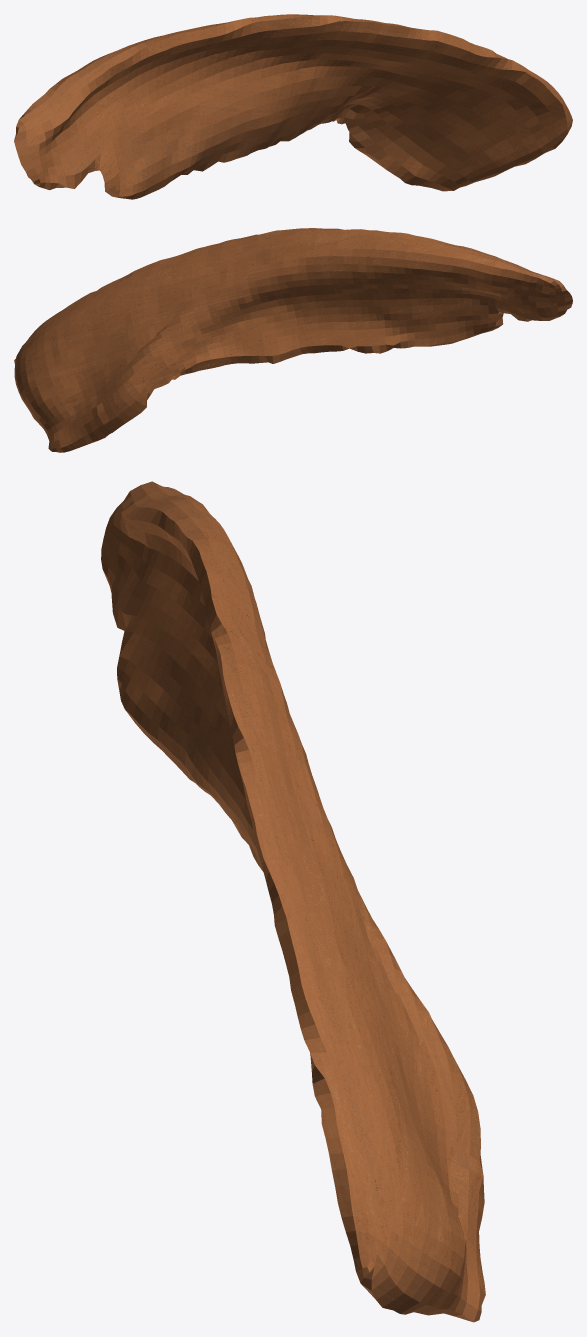
The model's file is mapleseed_final 1.fbx.
3 renders of one model, top to bottom at view 1: azimuth 30°, elevation 25°; view 2: azimuth 150°, elevation 25°; view 3: azimuth 270°, elevation 25°, orthographic. The views are drawn at different scales.
Visible parts, largest first — view 1: Mesh1.0; view 2: Mesh1.0; view 3: Mesh1.0.
Boxes of the visible parts, x1,y1,x2,y2 form: Mesh1.0: (14,14,572,199); Mesh1.0: (14,228,572,452); Mesh1.0: (101,481,485,1322).
Bounding box in the file's own units: 135 × 62.2 × 45.42.
Materials: 1 (1 with a texture image).
